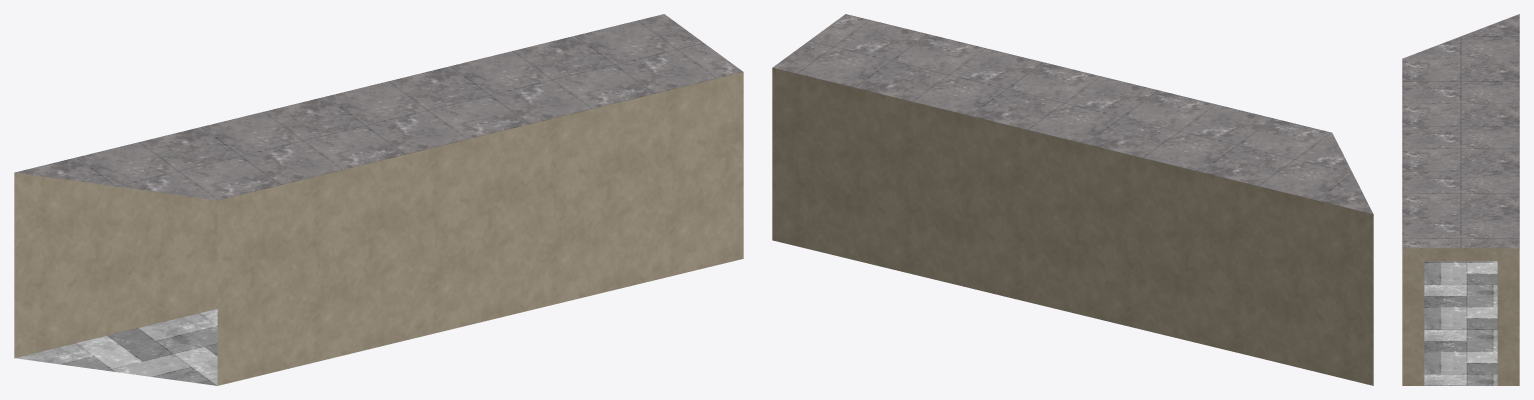
File: pm-stage-structure-back-corridor.glb
3 views of the same model, side by side, from view 1: azimuth 30°, elevation 25°; view 2: azimuth 150°, elevation 25°; view 3: azimuth 270°, elevation 25° (orthographic). The views are drawn at different scales.
Parts seen in each view (by area): view 1: Stage_Structure_Back_Corridor; view 2: Stage_Structure_Back_Corridor; view 3: Stage_Structure_Back_Corridor.
Part boxes in pixels (x1,y1,x2,y2): Stage_Structure_Back_Corridor: [14, 14, 743, 385]; Stage_Structure_Back_Corridor: [772, 14, 1373, 385]; Stage_Structure_Back_Corridor: [1402, 14, 1519, 385].
Bounding box in the file's own units: 14.59 × 4 × 3.08.
Materials: 3 (3 with a texture image).
